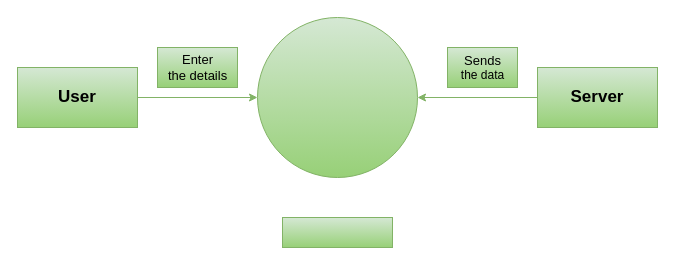
This 675x265 diagram has some shape labels left out. The centre of each missing label's shape, as x and y in pixels:
"DFD Level 0" goes at (337,232).
"Loan Eligibility Prediction" goes at (337,97).
